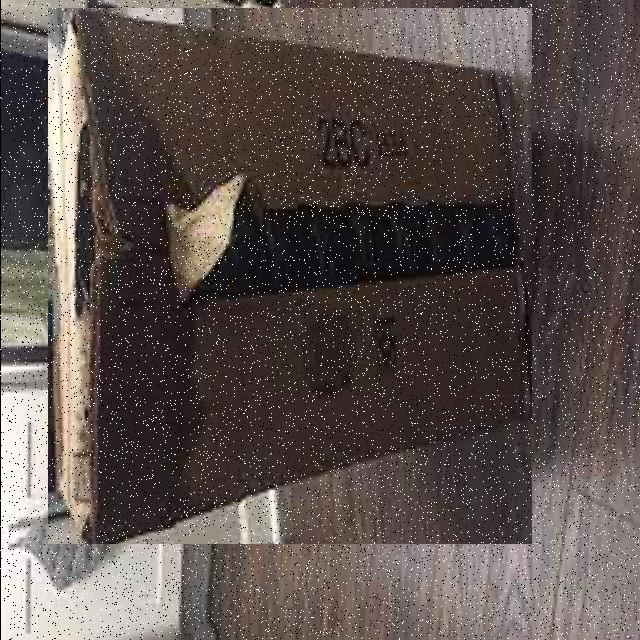defect: (47, 8, 531, 544)
